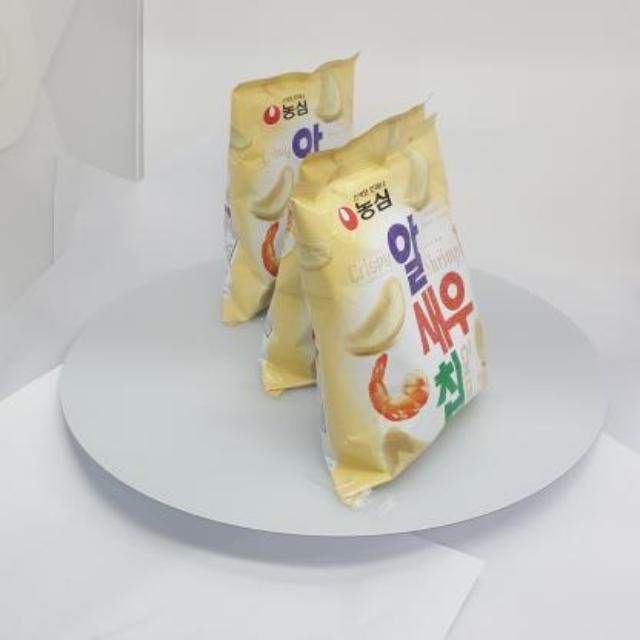snack_bag: (202, 42, 514, 524)
